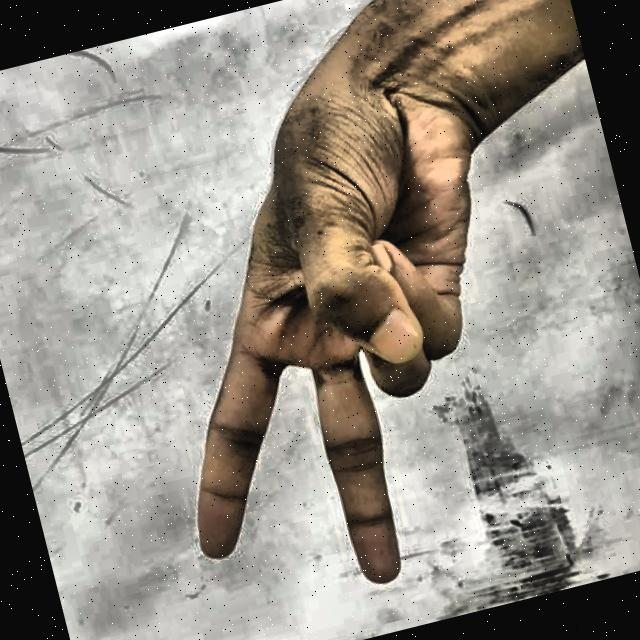Pa: (50, 12, 591, 640)
